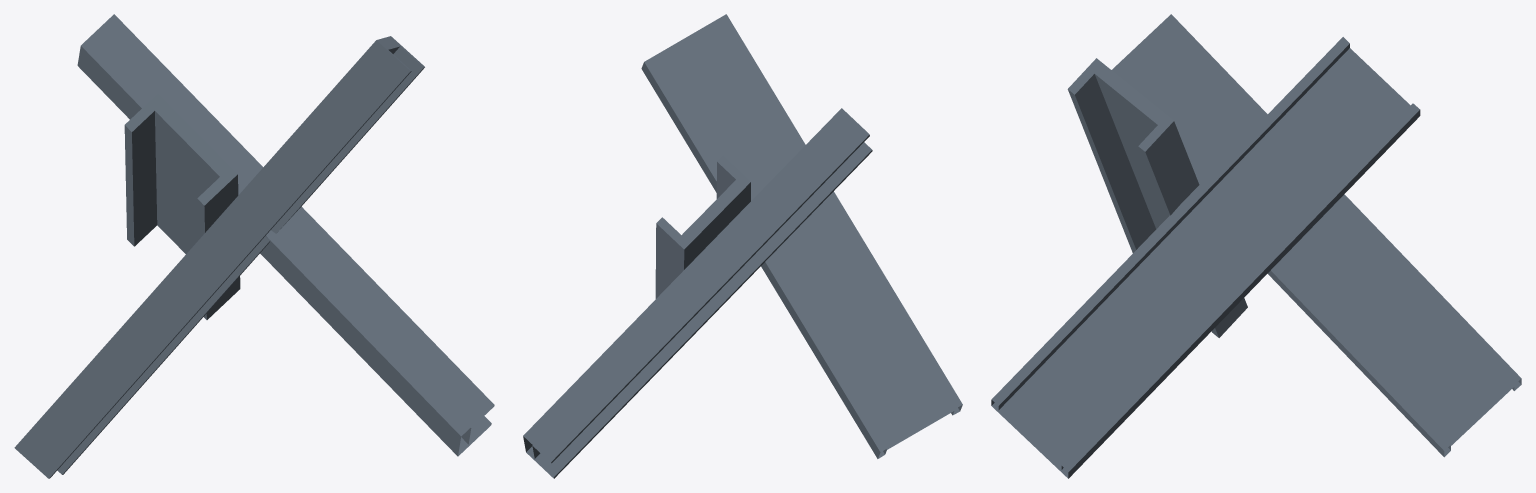
Rendered from Czech Hedgehog.fbx.
The picture shows the model from 3 angles, left to right: view 1: azimuth 30°, elevation 25°; view 2: azimuth 150°, elevation 25°; view 3: azimuth 270°, elevation 25°; orthographic projection. The views are drawn at different scales.
Visible parts, largest first — view 1: Cube.003; view 2: Cube.003; view 3: Cube.003.
Boxes of the visible parts, x1,y1,x2,y2 form: Cube.003: [14, 14, 494, 478]; Cube.003: [523, 14, 962, 478]; Cube.003: [991, 14, 1521, 478].
Bounding box in the file's own units: 178 × 170 × 208.
